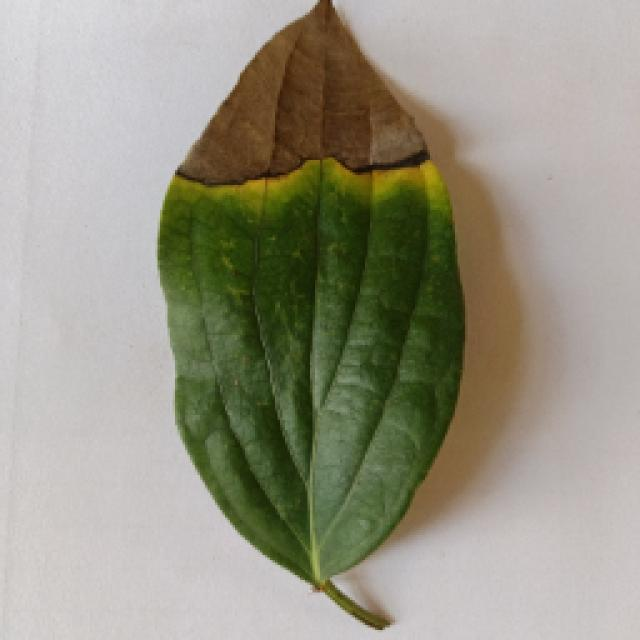footrot: (153, 7, 465, 625)
